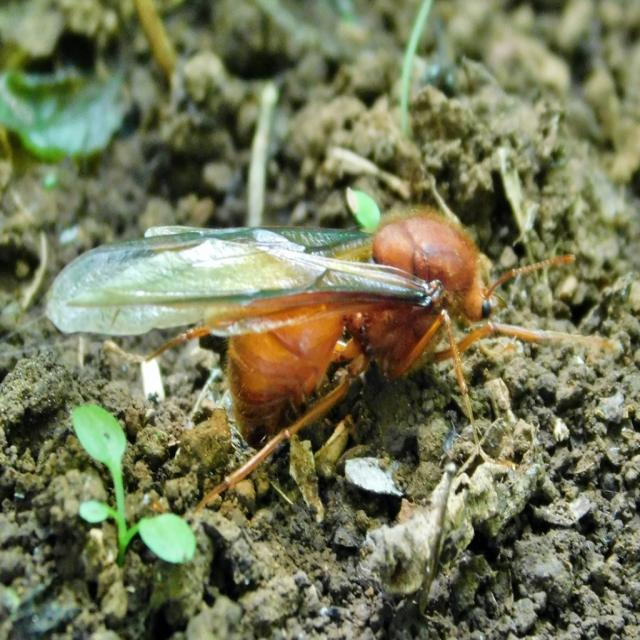Alive-Male-Alate: (41, 208, 624, 524)
